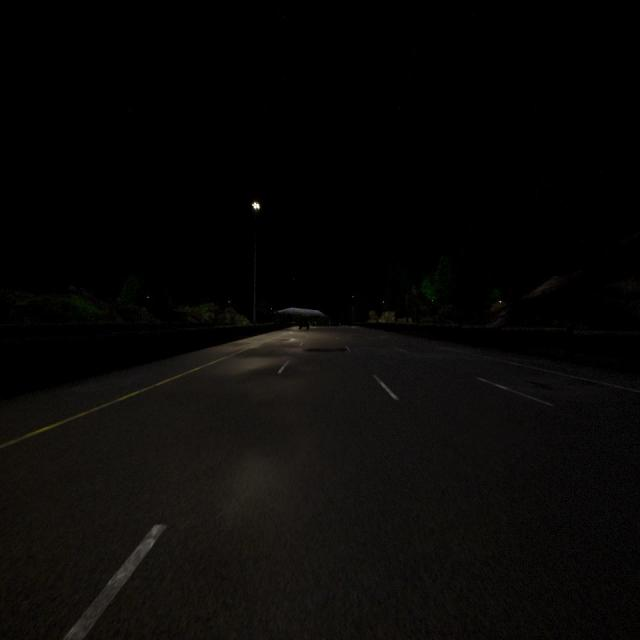Vehicle: (298, 316, 311, 332)
